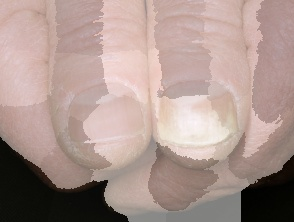Nail_psoriasis: (53, 64, 156, 173), (149, 62, 251, 161)
